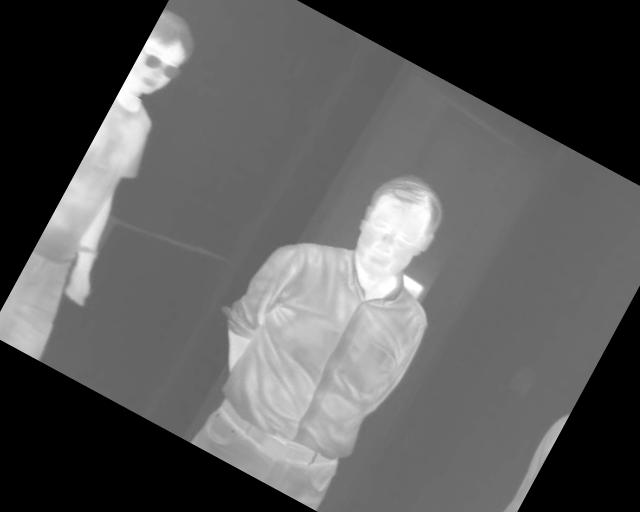face: (334, 160, 457, 297), (124, 7, 204, 105)
